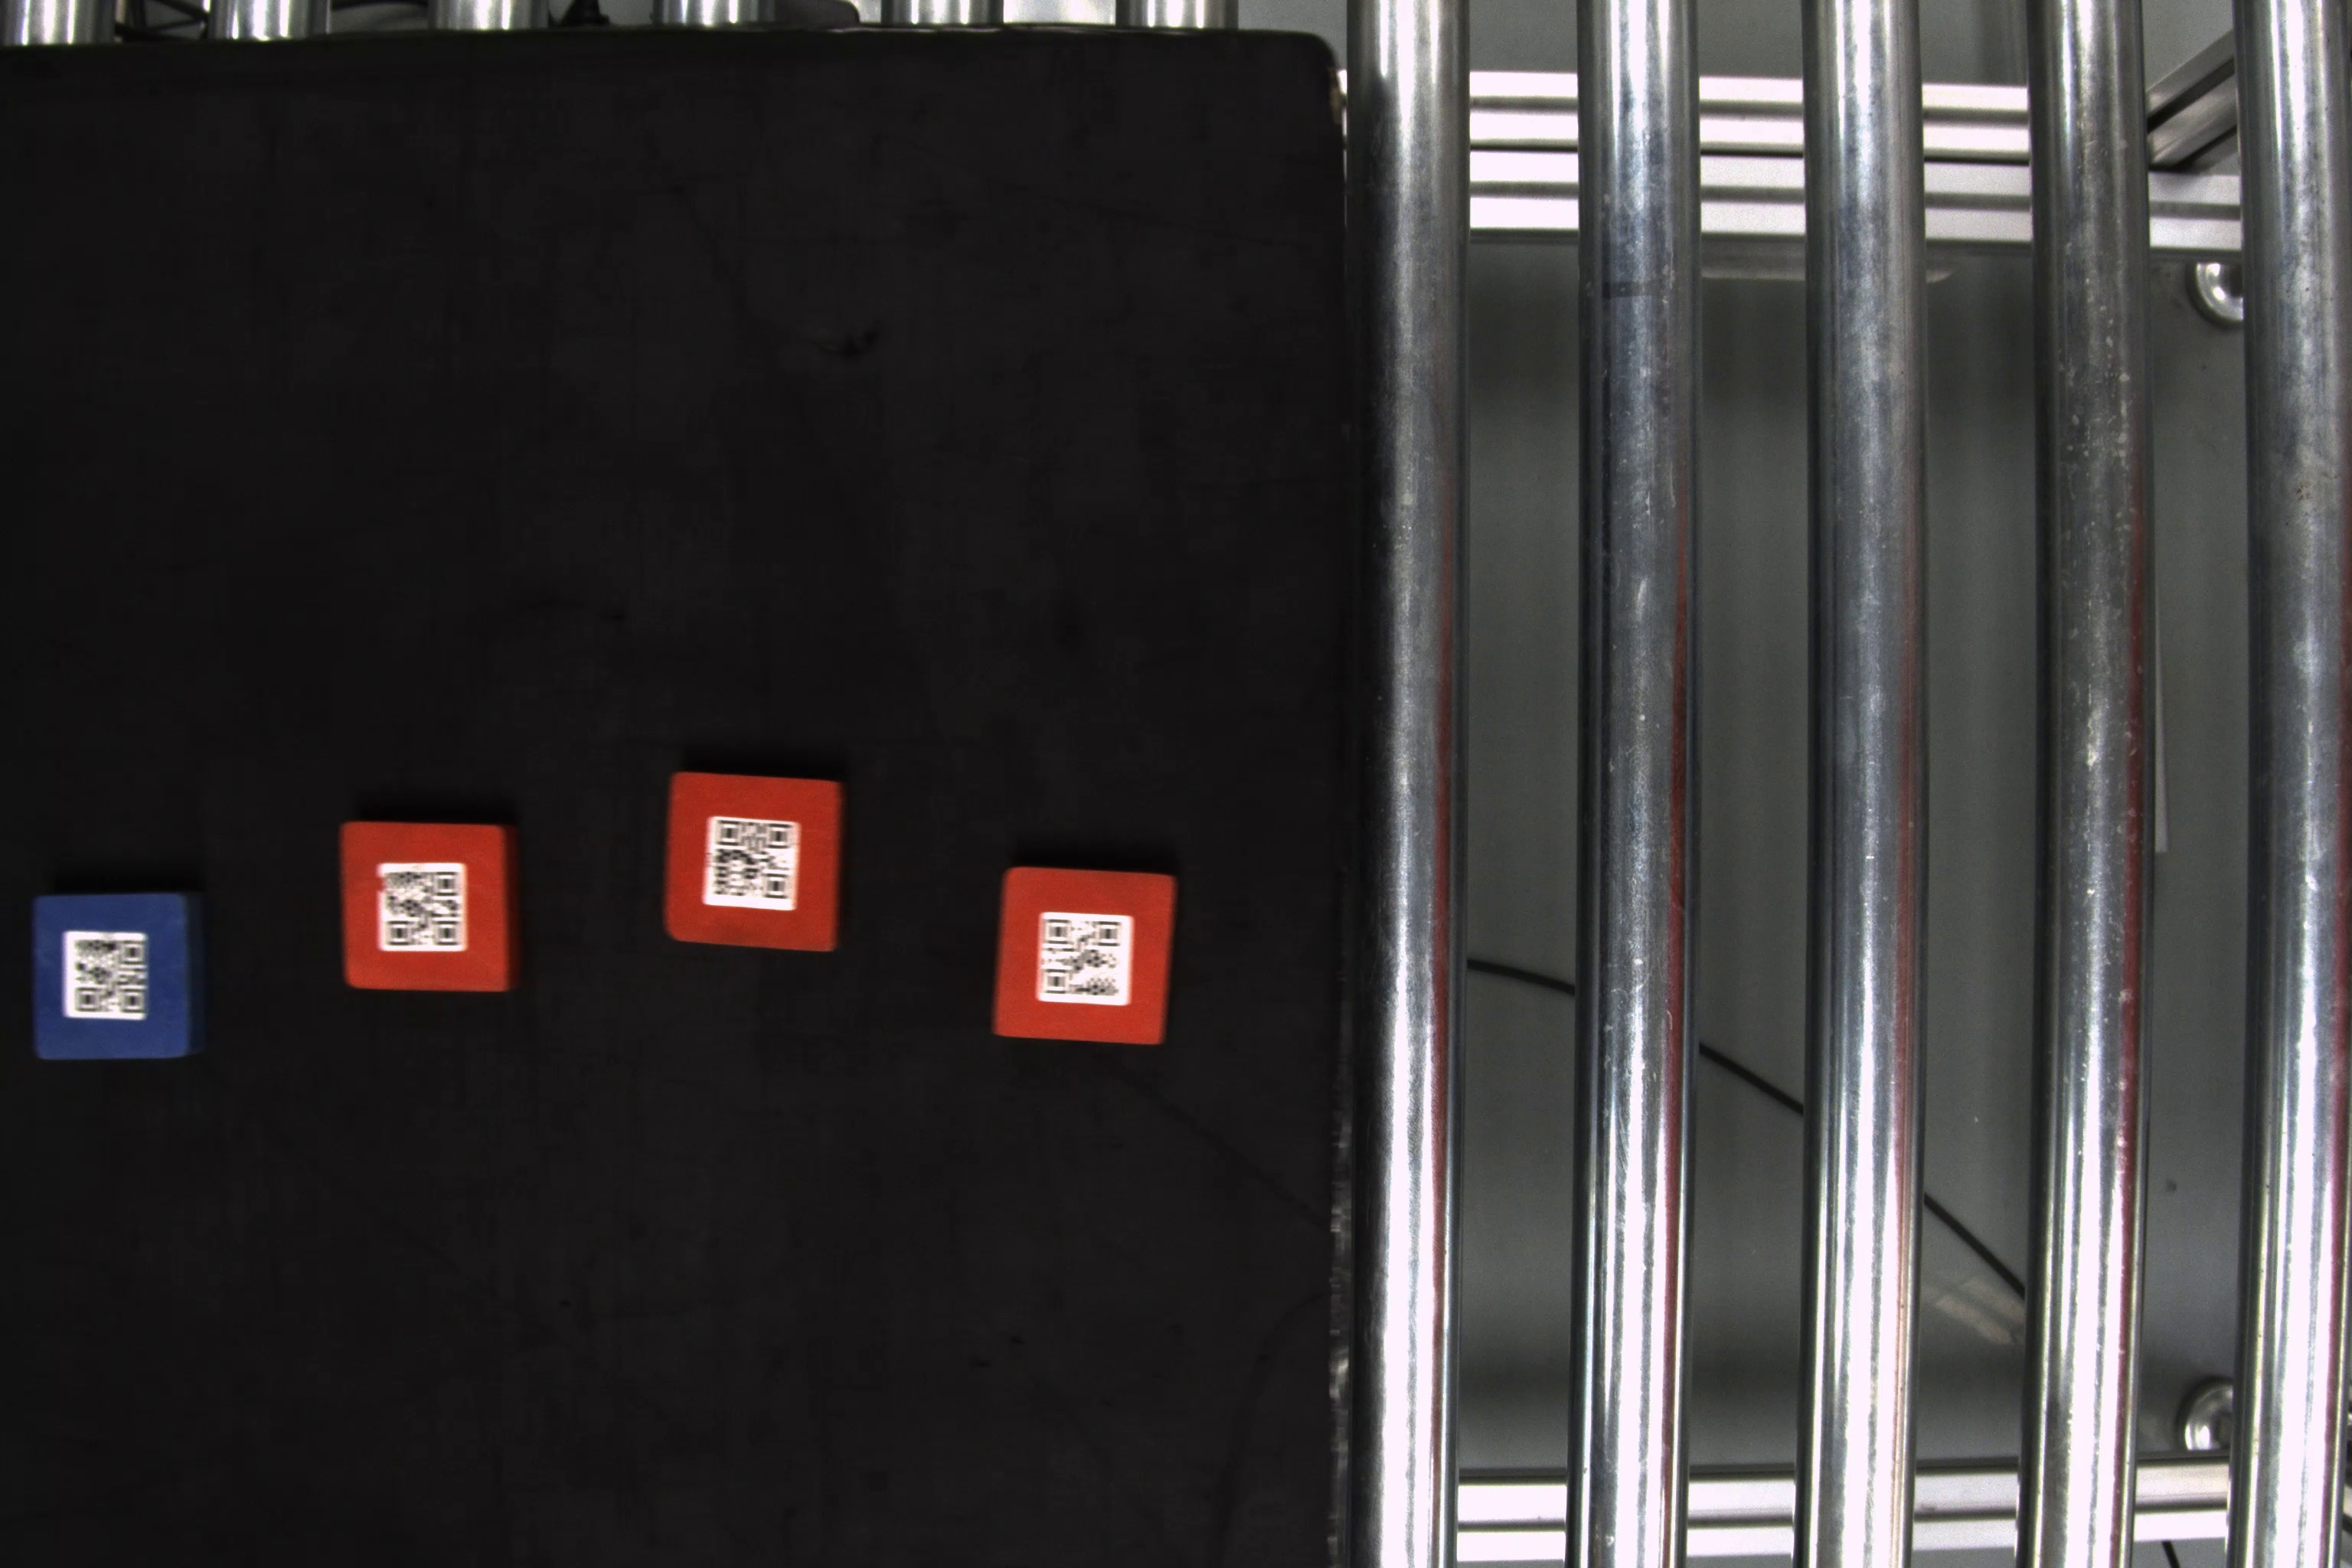wood: (325, 814, 534, 997), (661, 768, 854, 962), (992, 861, 1181, 1053), (30, 887, 196, 1062)
